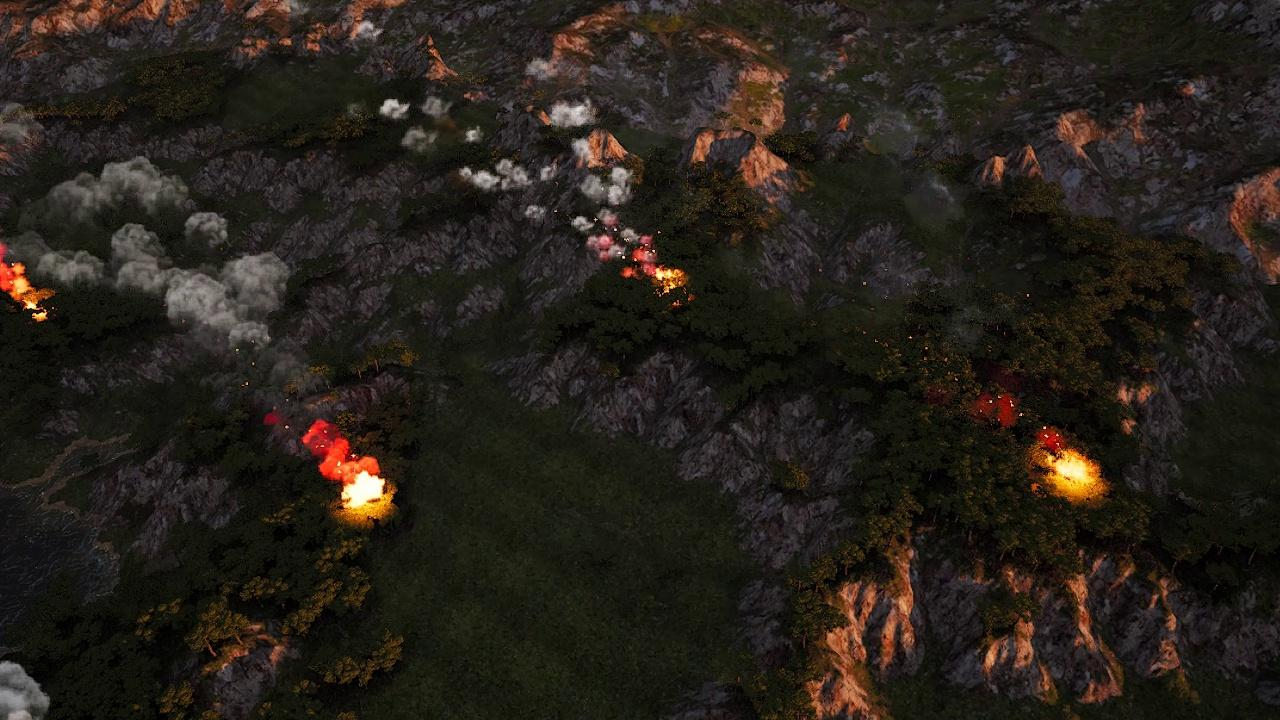fire: (0, 263, 47, 319), (338, 467, 388, 516), (1050, 450, 1099, 493), (657, 268, 696, 310)
smoke: (18, 155, 293, 357), (377, 91, 663, 271), (261, 412, 356, 479), (974, 389, 1017, 426)
